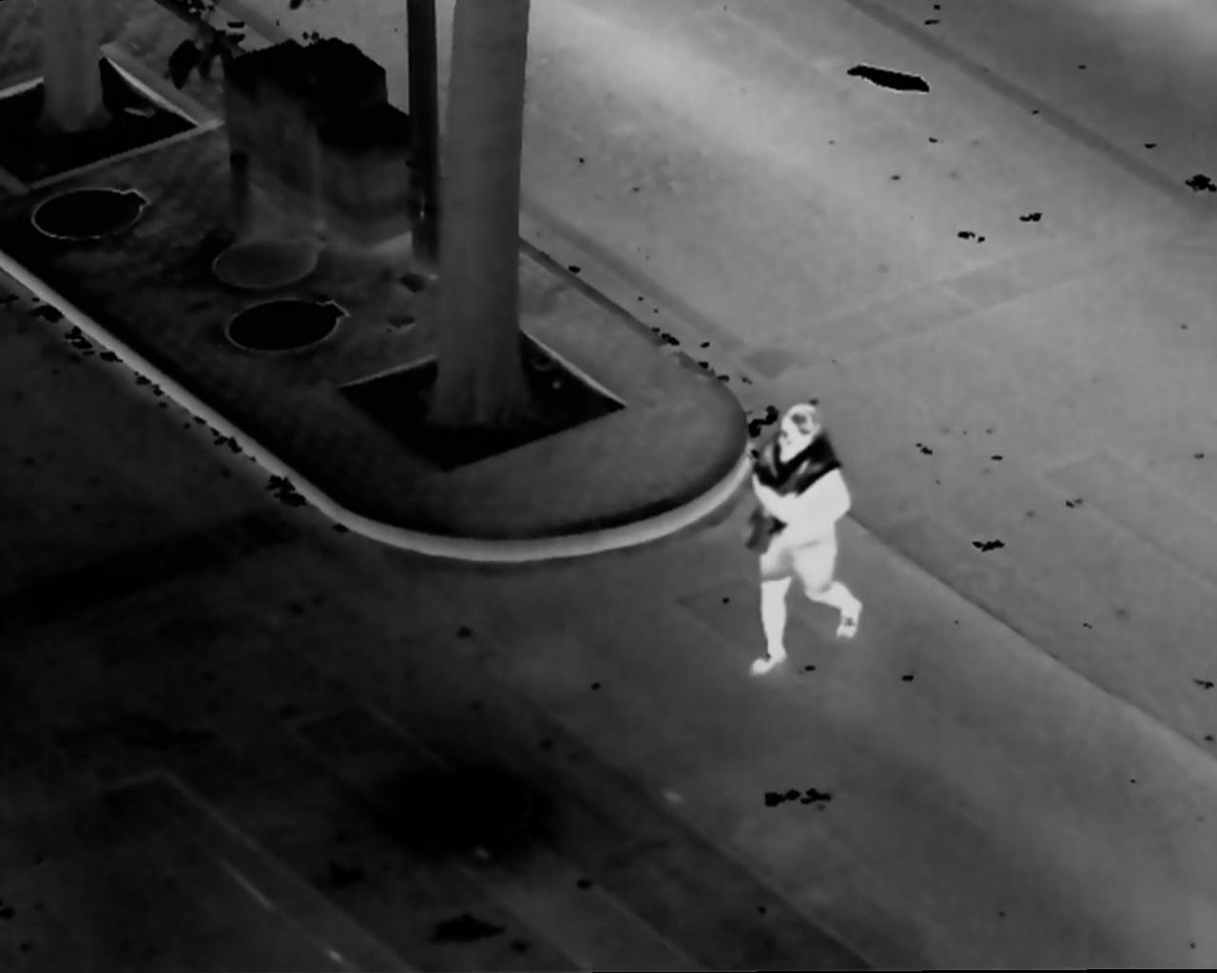person: (744, 403, 863, 677)
